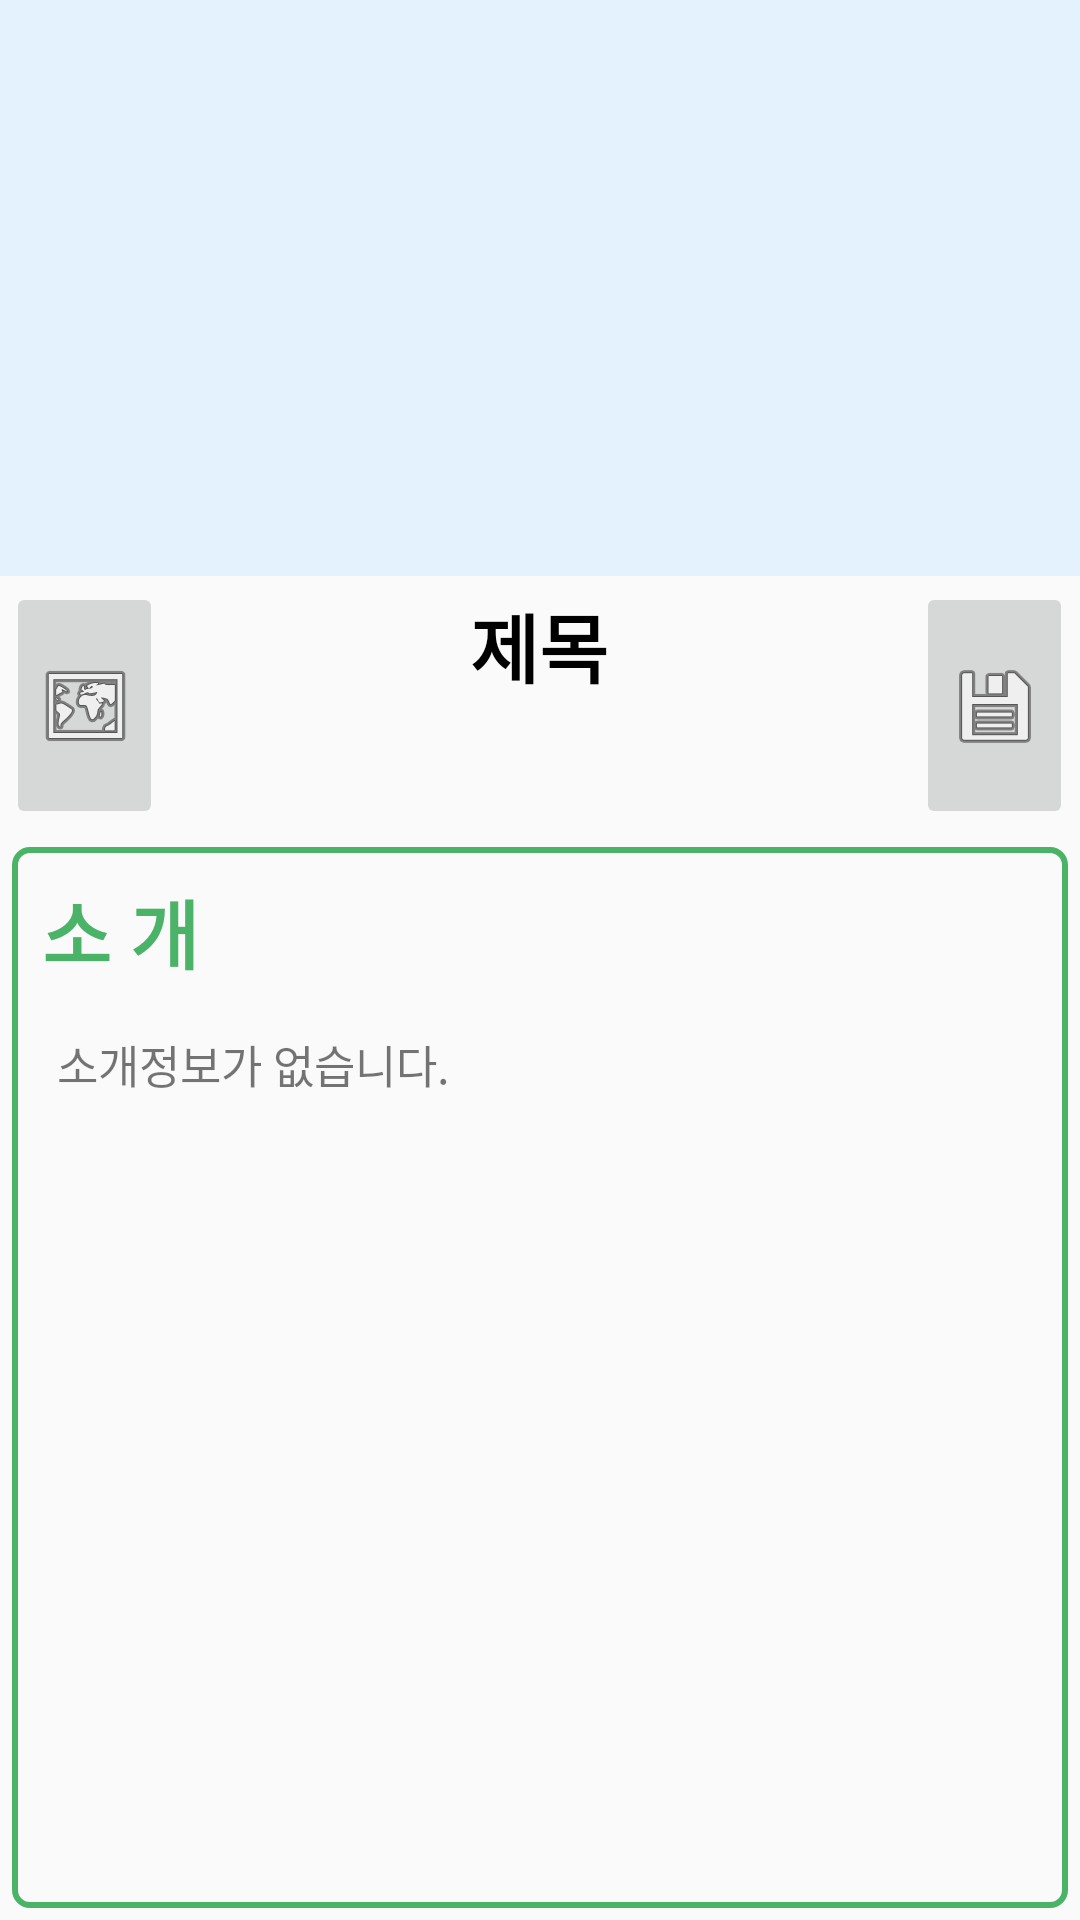

Point at icon controls on the screen. Image size 1080px x 1920px, points as point (x, y).
mapmode: point (84, 705)
save: point (994, 705)
